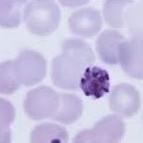Infected: (81, 65, 111, 99)
Uninfected: (23, 0, 61, 36), (24, 85, 59, 121), (15, 50, 48, 84), (96, 30, 129, 64), (52, 56, 84, 89), (109, 83, 140, 116), (69, 6, 102, 37), (52, 92, 84, 123), (61, 39, 95, 65), (103, 0, 134, 28), (95, 115, 124, 143), (31, 122, 69, 143)
